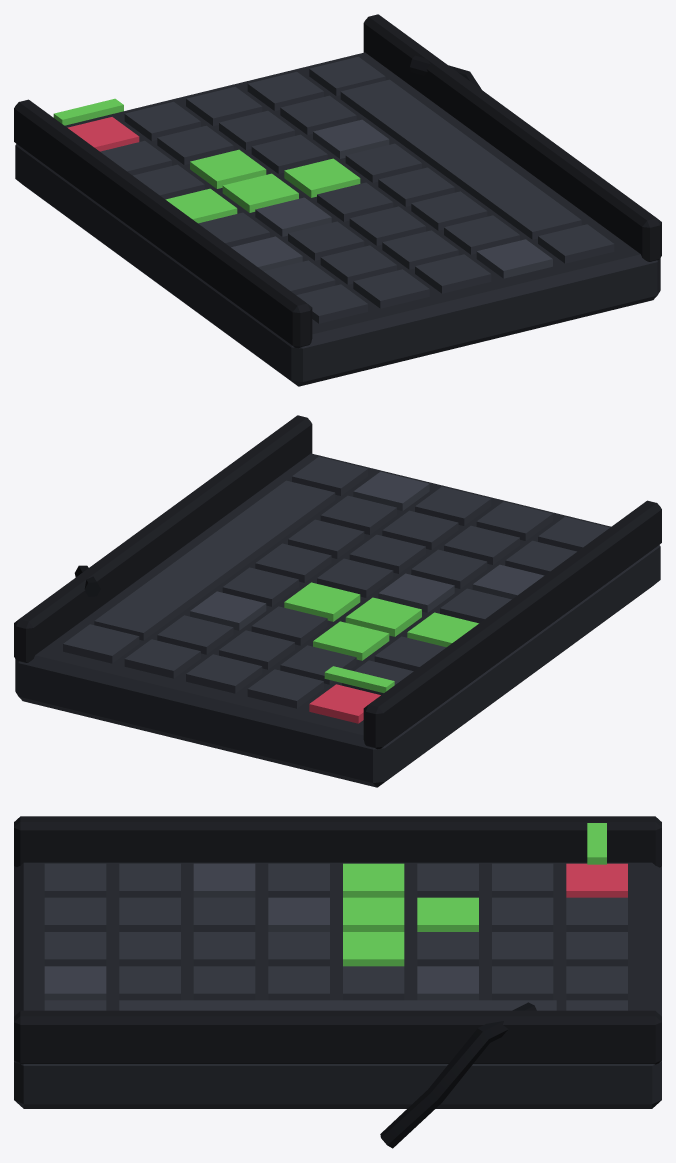
Rendered from bridge.glb.
3 views of the same model, one above another, from view 1: azimuth 30°, elevation 25°; view 2: azimuth 150°, elevation 25°; view 3: azimuth 270°, elevation 25° (orthographic). The views are drawn at different scales.
Visible parts, largest first — view 1: body; view 2: body; view 3: body.
Part boxes in pixels (x1,y1,x2,y2): body: (14, 14, 661, 386); body: (14, 415, 661, 787); body: (14, 816, 661, 1148).
Bounding box in the file's own units: 3.26 × 0.7883 × 4.
